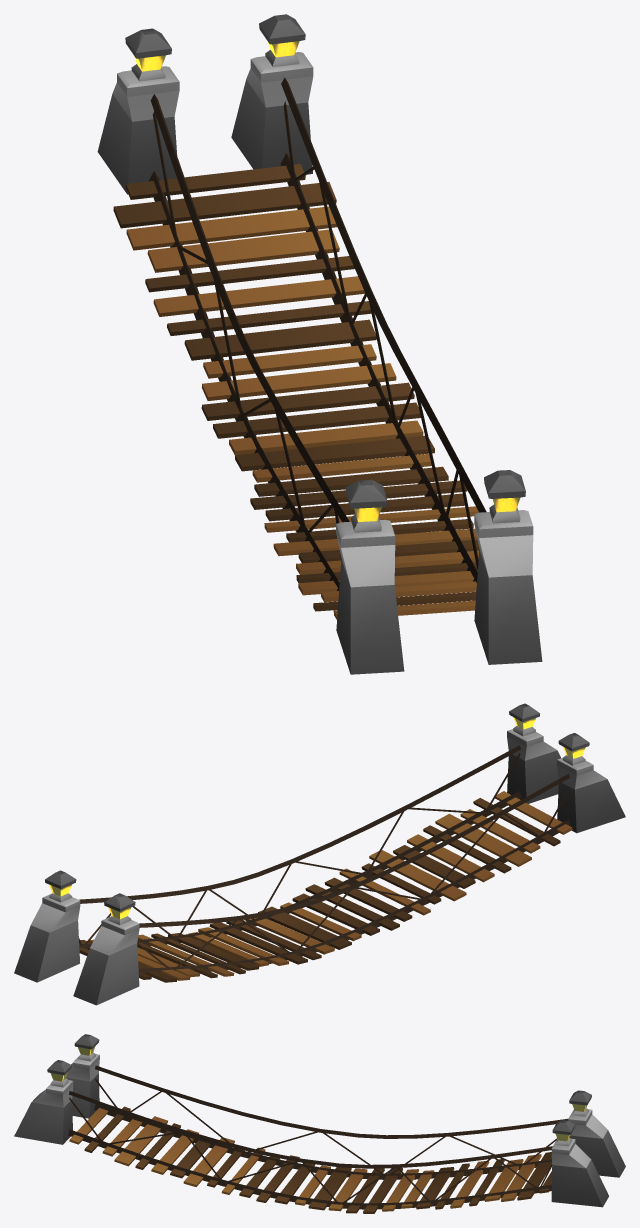
The model's file is wood_suspention_bridge.glb.
3 views of the same model, one above another, from view 1: azimuth 30°, elevation 25°; view 2: azimuth 150°, elevation 25°; view 3: azimuth 270°, elevation 25° (orthographic). The views are drawn at different scales.
Visible parts, largest first — view 1: Object_2; view 2: Object_2; view 3: Object_2.
Part boxes in pixels (x1,y1,x2,y2): Object_2: (97,14,542,674); Object_2: (14,703,625,1005); Object_2: (14,1034,625,1213).
Bounding box in the file's own units: 5.98 × 2.67 × 13.08.
1 material, 1 textured.
